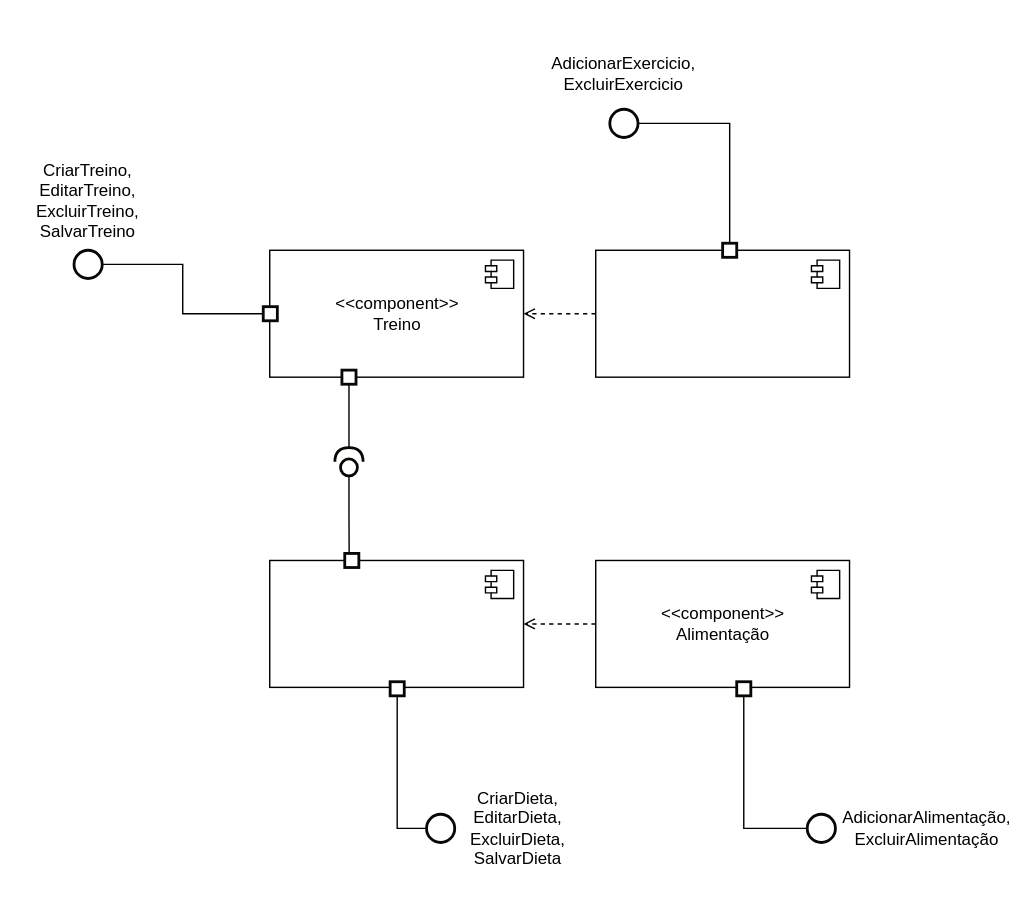
This 1035x901 diagram has some shape labels left out. The shapes that lost their labels are listed below. From the top down, each one's centre as x and y in pixels, then its label:
point (722, 313): <<component>> Exercício
point (396, 623): <<component>> Dieta
